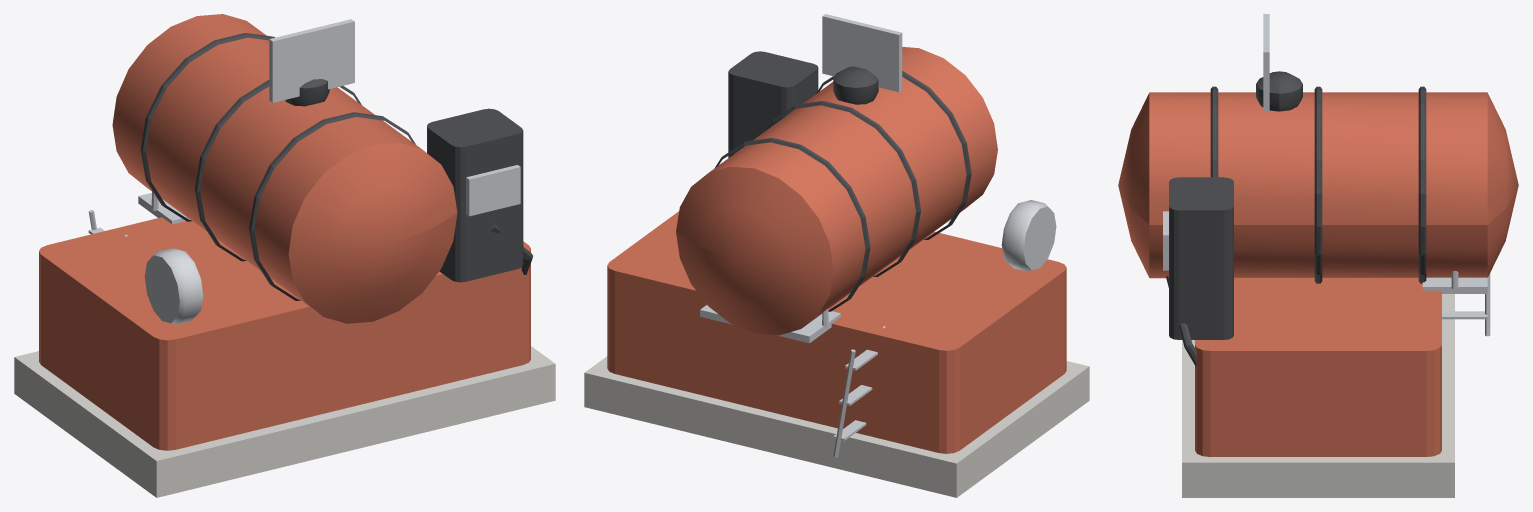
The model's file is arable-fields-and-farm-machinery-fuel-bowser-e7e4d22e.glb.
The picture shows the model from 3 angles, left to right: view 1: azimuth 30°, elevation 25°; view 2: azimuth 150°, elevation 25°; view 3: azimuth 270°, elevation 25°; orthographic projection. The views are drawn at different scales.
Parts seen in each view (by area): view 1: fuel-bowser; view 2: fuel-bowser; view 3: fuel-bowser.
Boxes of the visible parts, x1,y1,x2,y2 form: fuel-bowser: (14,14,555,497); fuel-bowser: (584,14,1089,497); fuel-bowser: (1118,14,1518,497).
Bounding box in the file's own units: 3.4 × 3.15 × 3.08.
